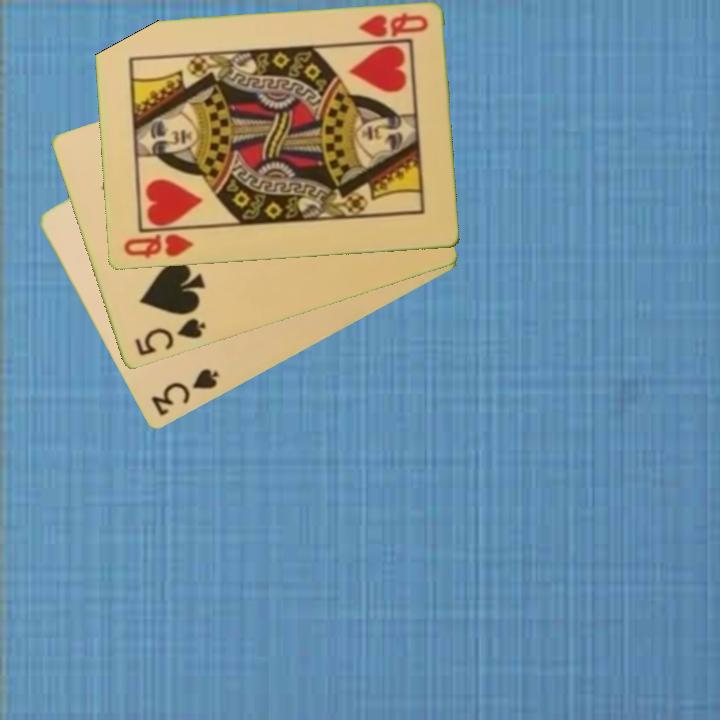3s: (147, 365, 222, 420)
5s: (131, 315, 209, 360)
Qh: (355, 9, 430, 41), (120, 231, 196, 262)
